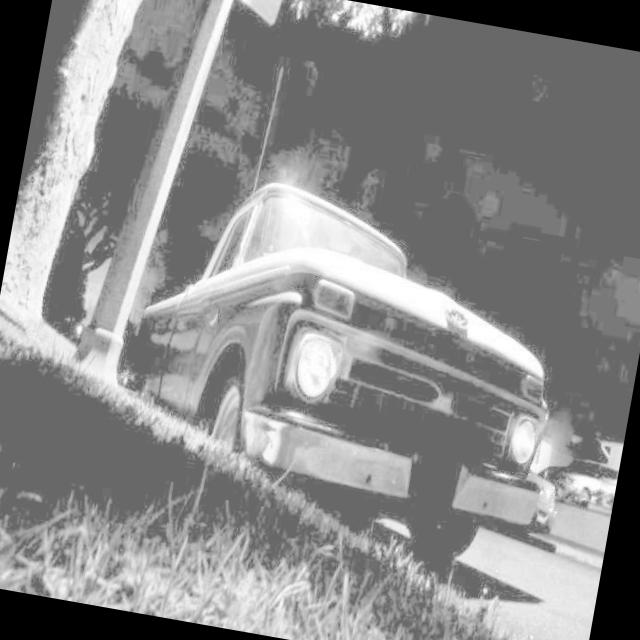Car: (105, 143, 613, 589), (548, 442, 622, 524)
